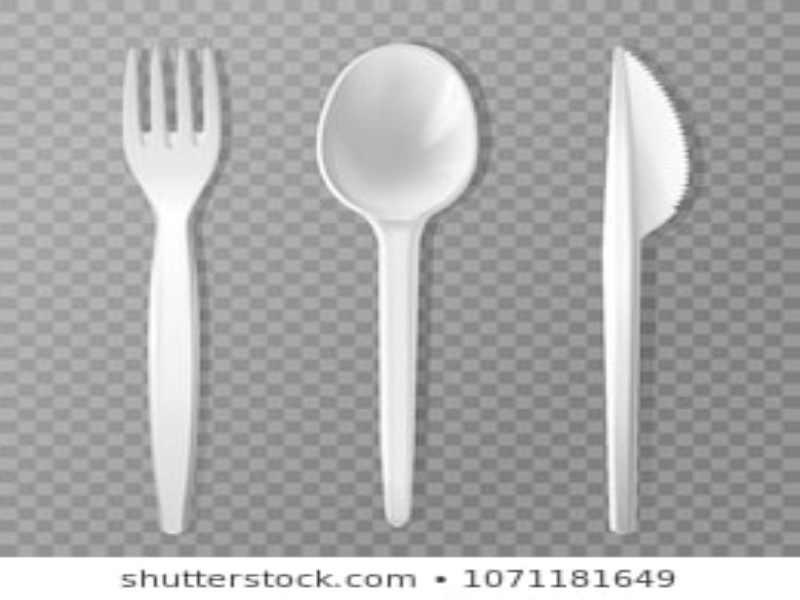plastic-silverware: (313, 40, 485, 531), (116, 40, 226, 539), (600, 43, 691, 538)
